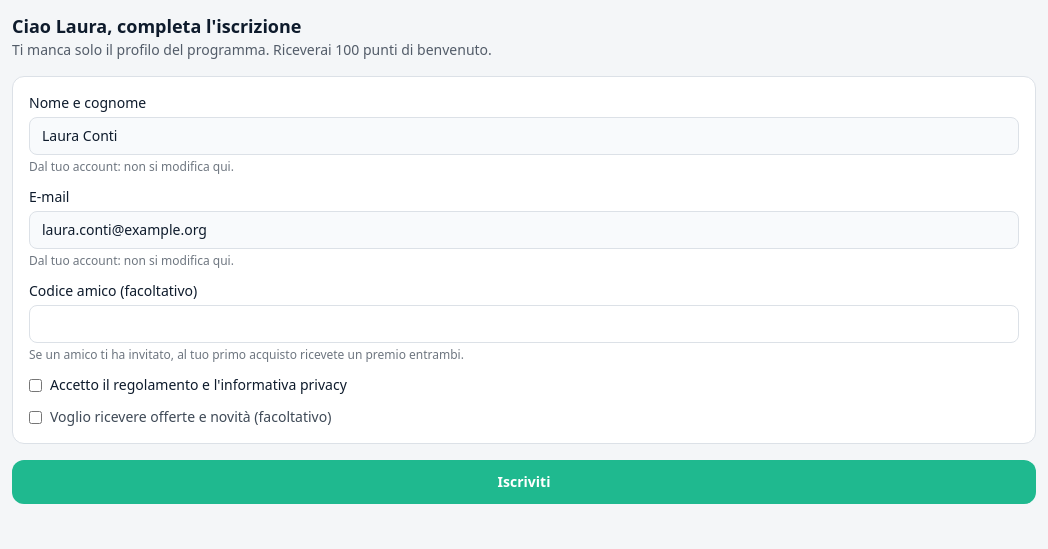
PT-16 registrazione in enterprise › senza i termini non invia: errore sul campo e nessuna POST
Click the button "Iscriviti" at (524, 482), box [12,460,1036,504]
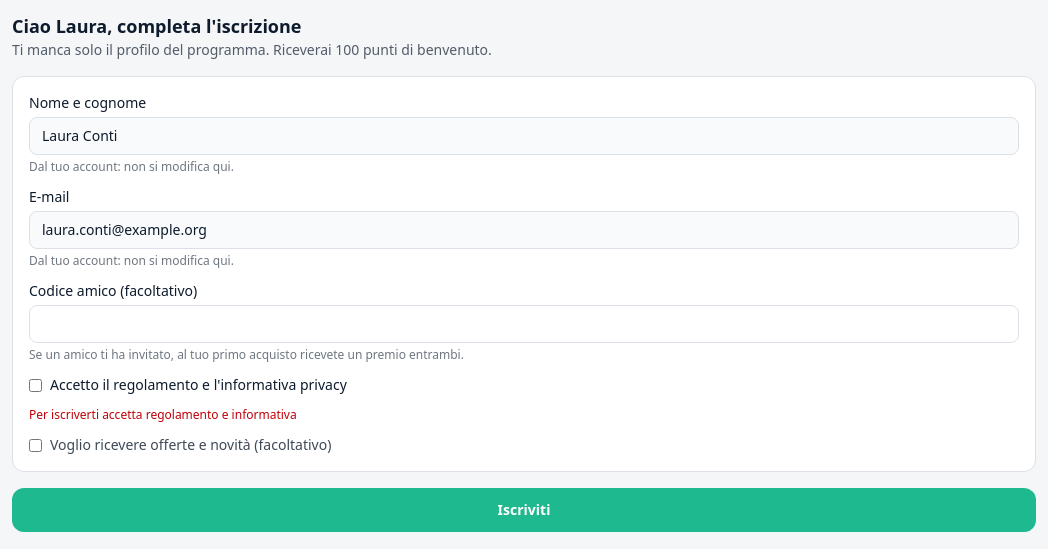
expect the text "Per iscriverti accetta regolamento e informativa" is shown: met, box [29,406,297,423]
